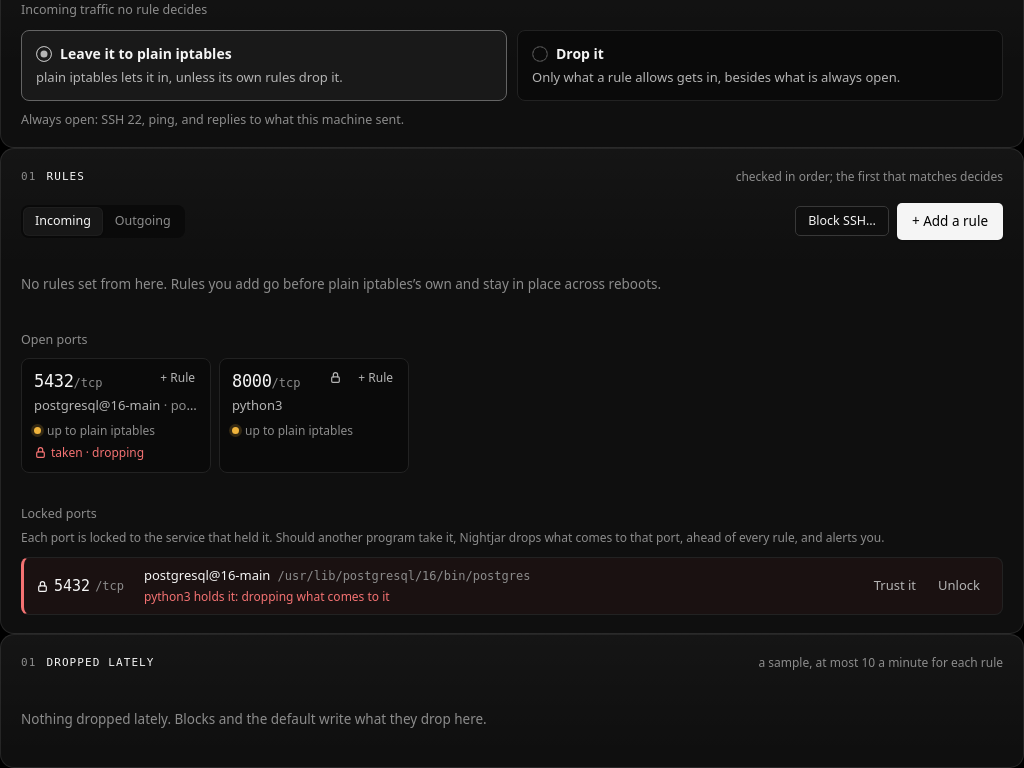
Scenario: Port locks › says a taken port is being dropped, and trusts the program on it when asked
(page scrolled)
Expected: the text "python3 holds it: dropping what comes to it" is shown, [144,588,390,605]
Expected: the text "taken · dropping" is shown, [34,444,144,462]
Click the button "Trust it".
click(895, 586)  # box [864,570,926,602]
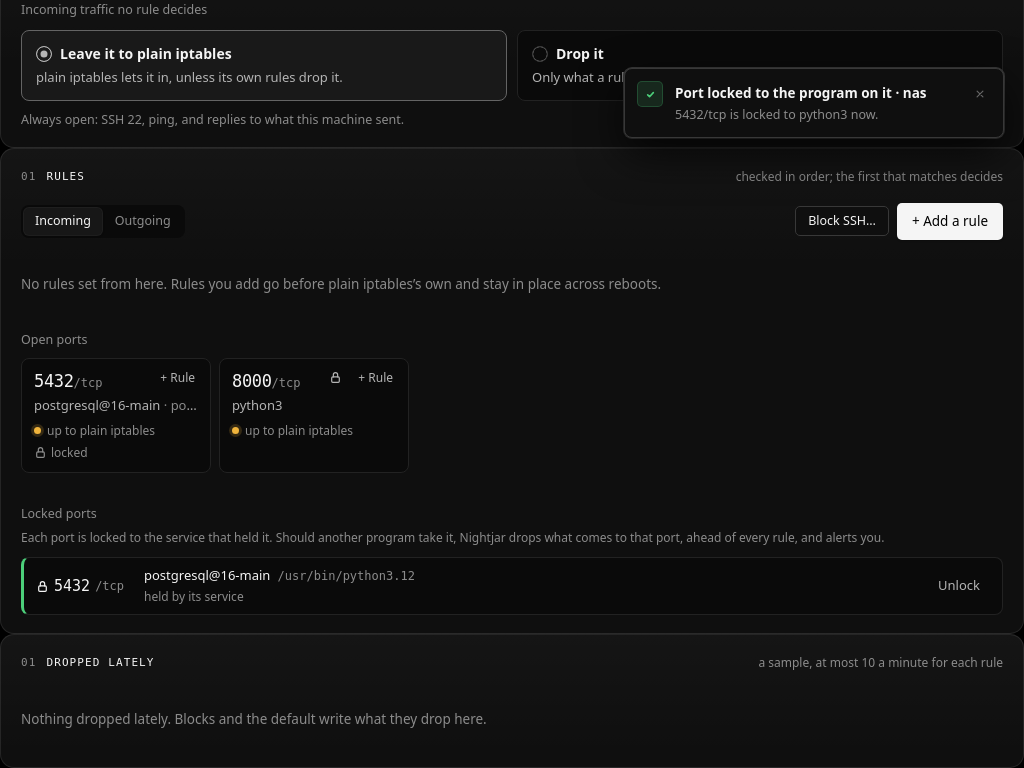
Now the text "held by its service" is shown, box [144,588,244,605]
